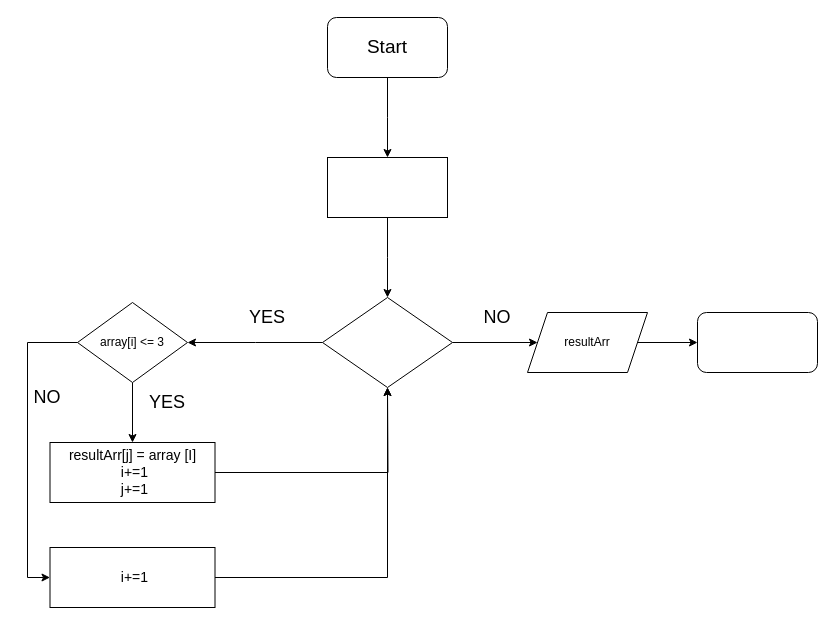
Some shapes in this 835 by 625 pixel diagram are drawn without their labels. Here are the shapes that lost their labels. From the top down, the centre of each, then its label:
At point 387,187: "array resultArr j = 0 i = 0".
At point 387,342: "i < array.Length".
At point 757,342: "End".
